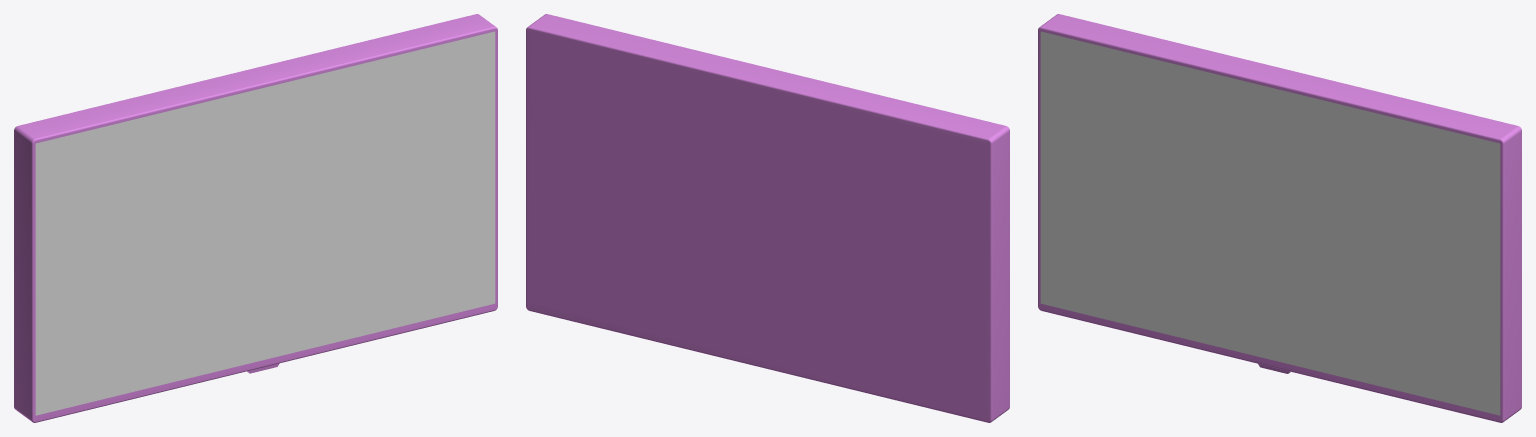
The picture shows the model from 3 angles, left to right: view 1: azimuth 30°, elevation 25°; view 2: azimuth 150°, elevation 25°; view 3: azimuth 330°, elevation 25°; orthographic projection.
Parts seen in each view (by area): view 1: Screen, Body; view 2: Body; view 3: Screen, Body.
Part boxes in pixels (x1,y1,x2,y2): Screen: (35, 31, 495, 415); Body: (14, 14, 497, 422); Body: (526, 14, 1009, 422); Screen: (1040, 31, 1500, 415); Body: (1038, 14, 1521, 422).
Bounding box in the file's own units: 1.23 × 0.7274 × 0.0865.
